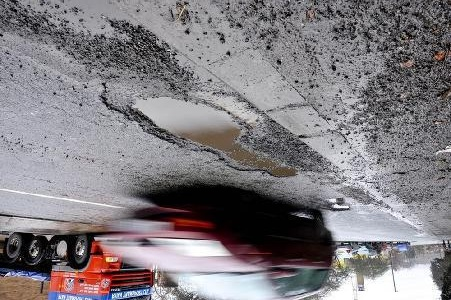pothole: (123, 94, 303, 181), (323, 198, 352, 214)
